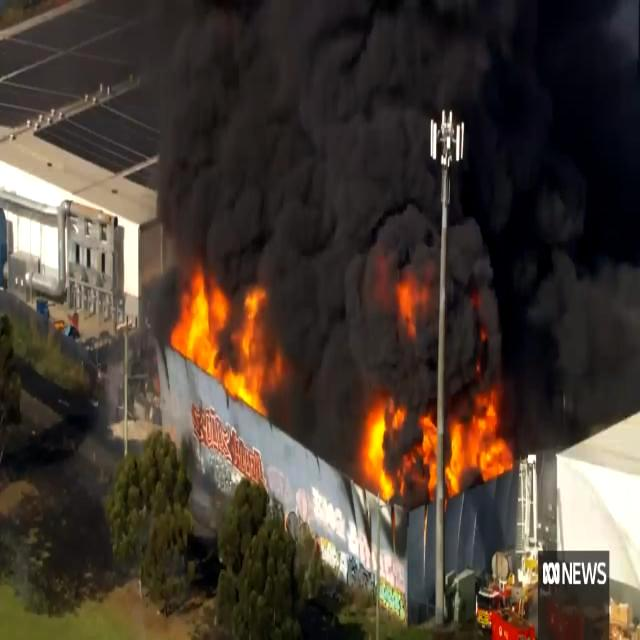fire: (354, 255, 510, 498), (166, 262, 286, 418)
